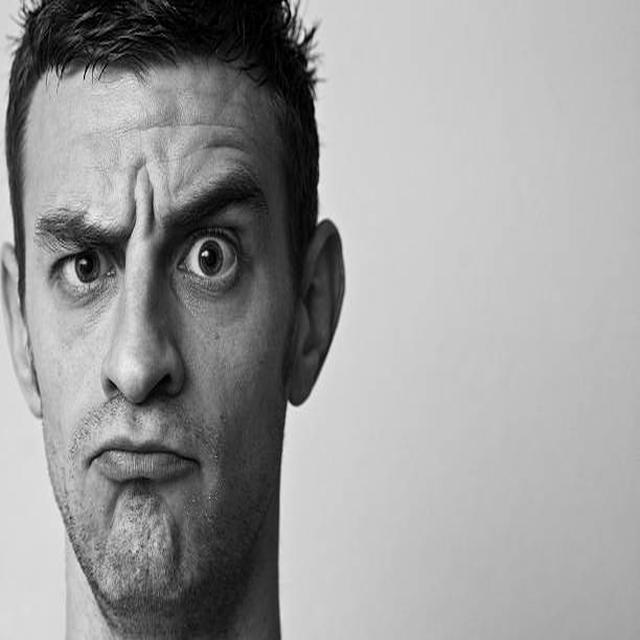Disgust: (24, 66, 291, 611)
